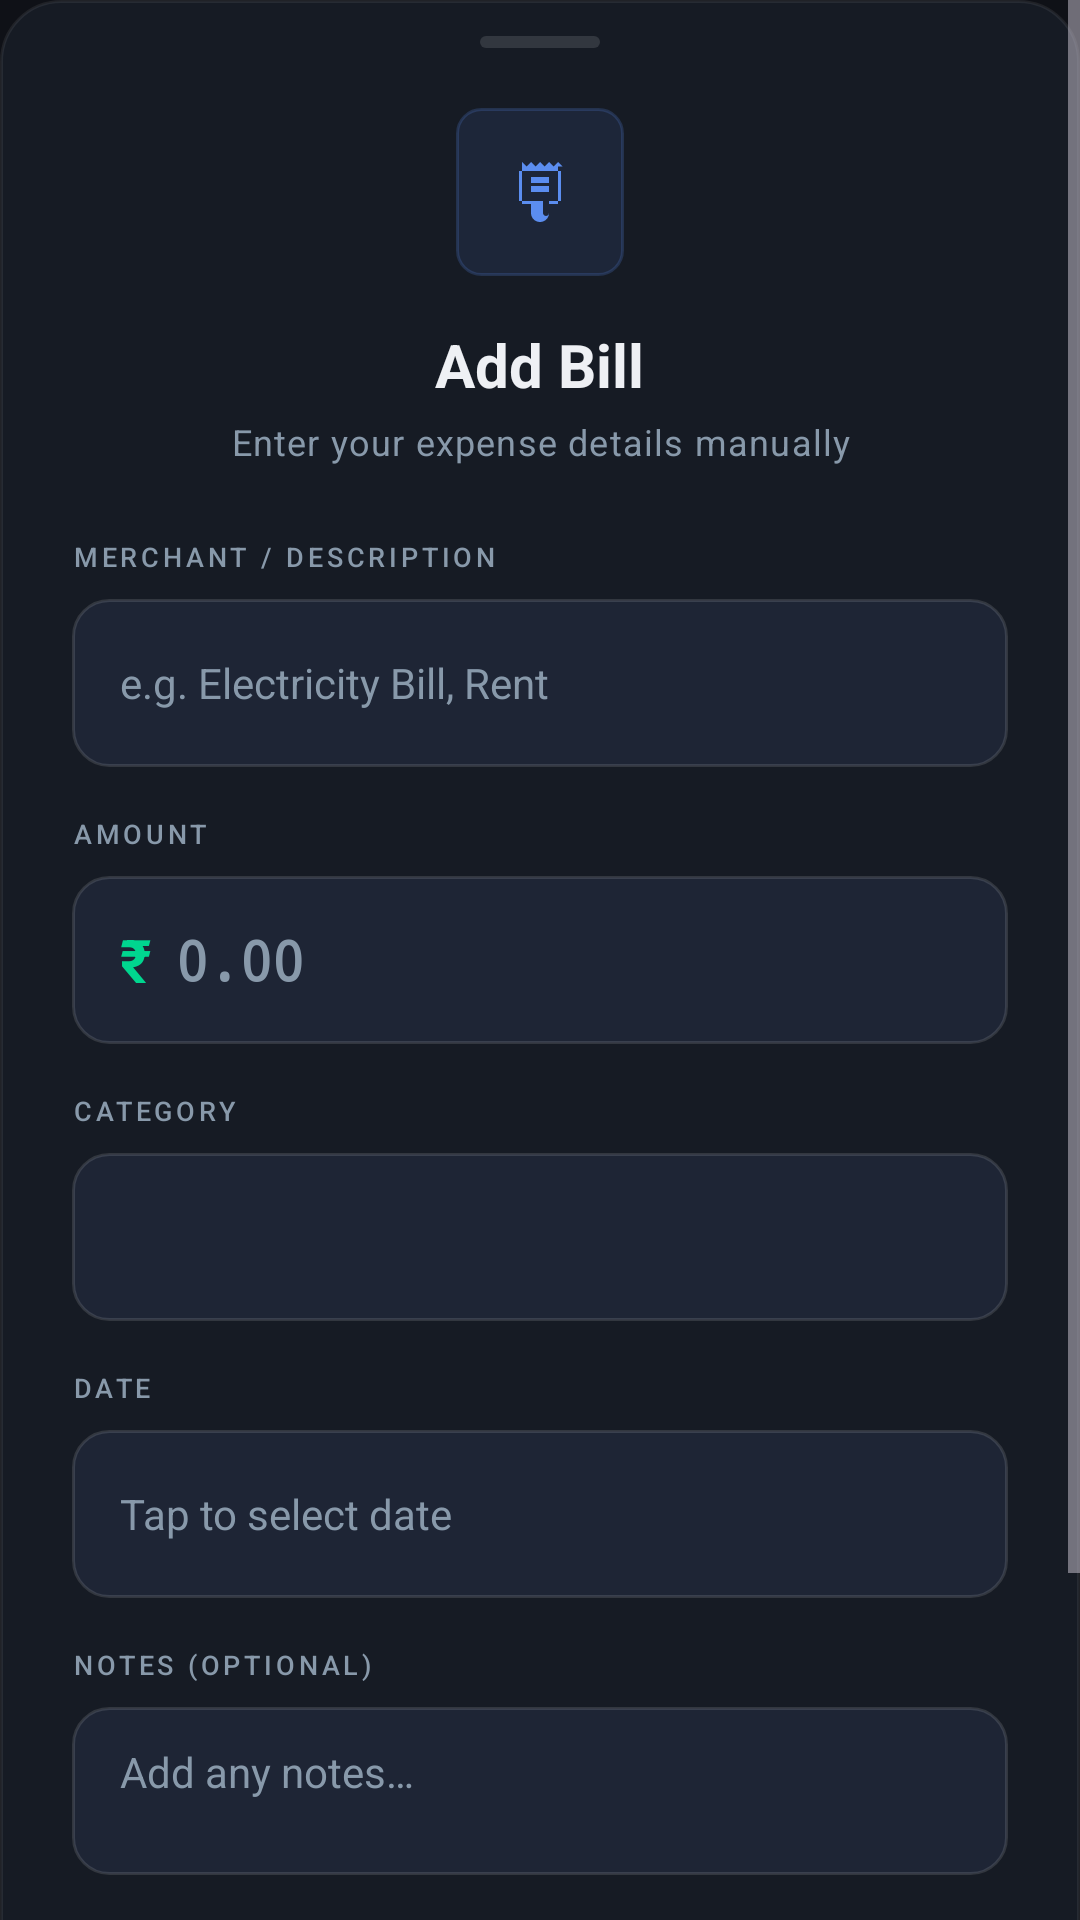

Screen size 1080 x 1920. Icon name, then its center in pixels as point (x, y):
receipt long: point (541, 192)
